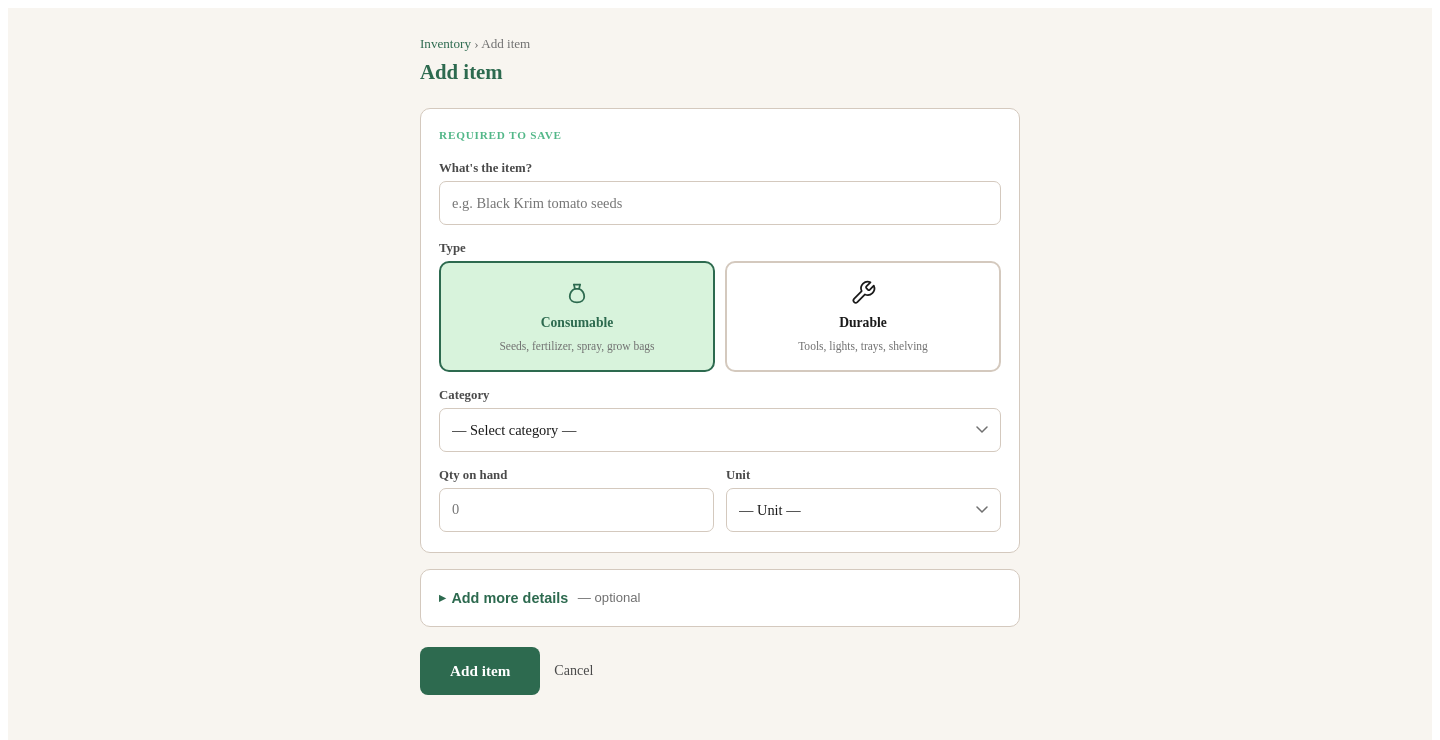
seed mode names itself — heading, breadcrumb, submit › the CATEGORY decides, not the door: picking Seeds in the select flips it, and picking away flips it back
Check: the heading reads "Add item", box [420, 60, 503, 83]
Select "Seeds" in the dropdown labelled "Category": (720, 430) [439, 408, 1001, 452]
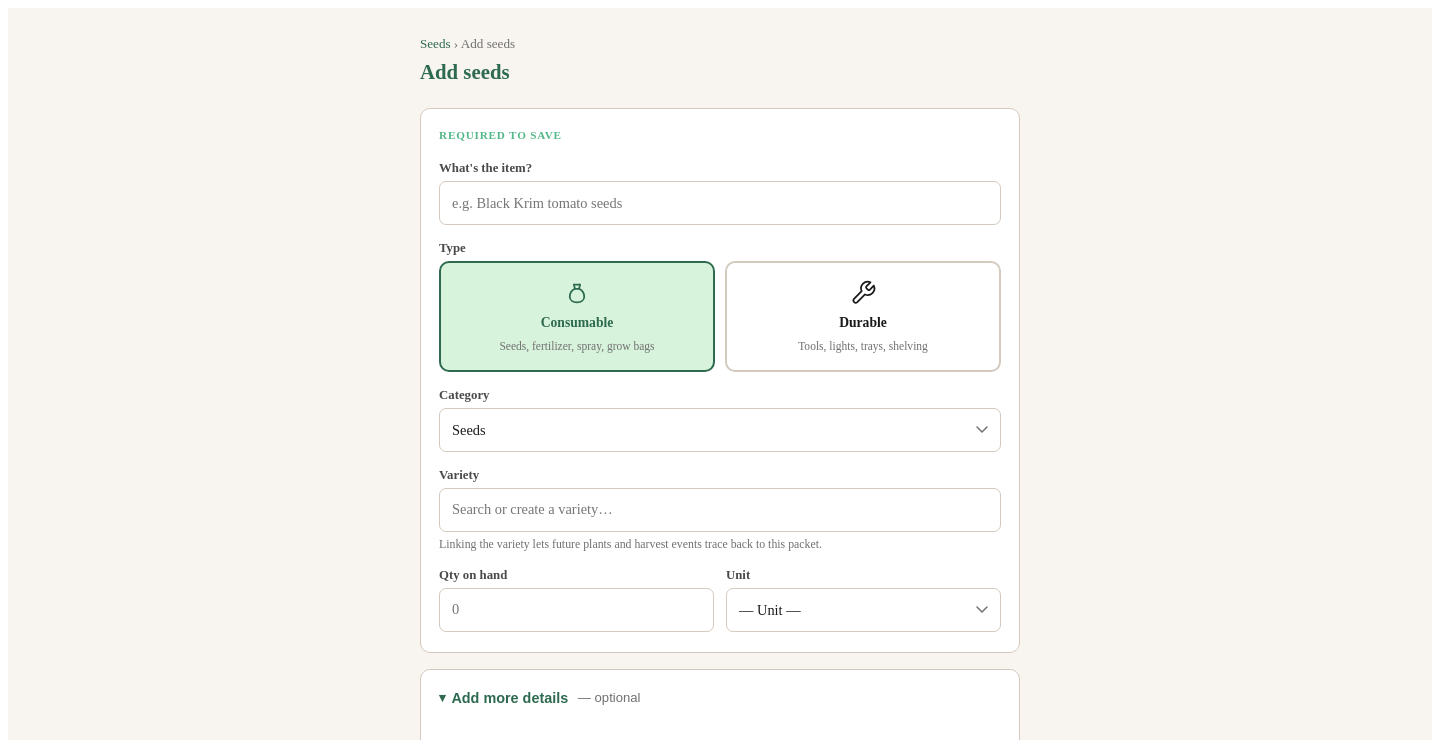
Check: the heading reads "Add seeds", box [420, 60, 510, 83]
Select "Fertilizer" in the dropdown labelled "Category": (720, 430) [439, 408, 1001, 452]
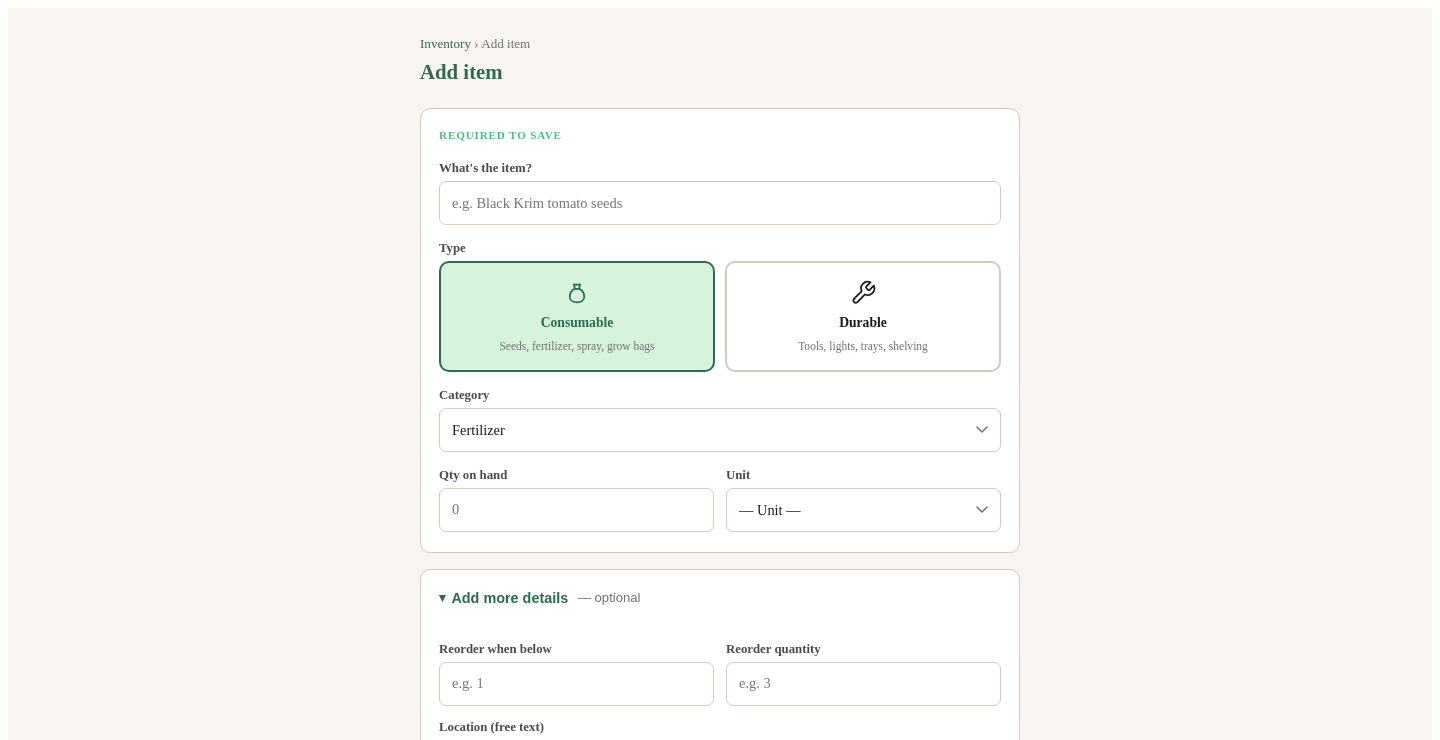
Check: the heading reads "Add item", box [420, 60, 503, 83]
